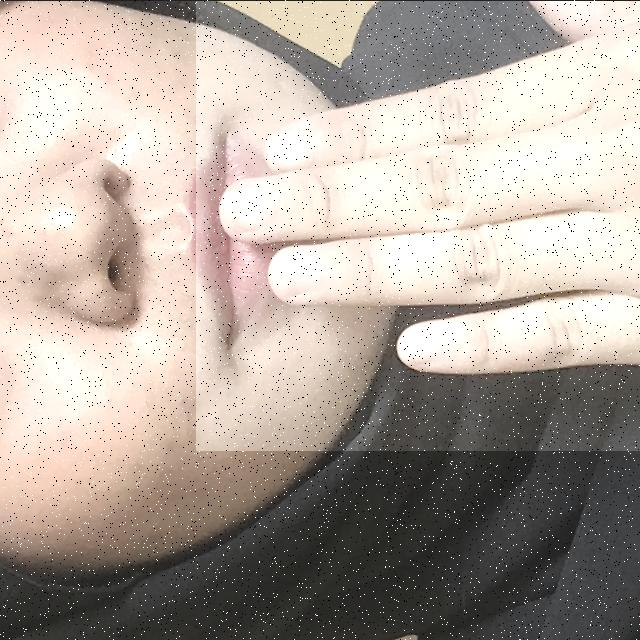ganteng: (196, 0, 640, 450)
